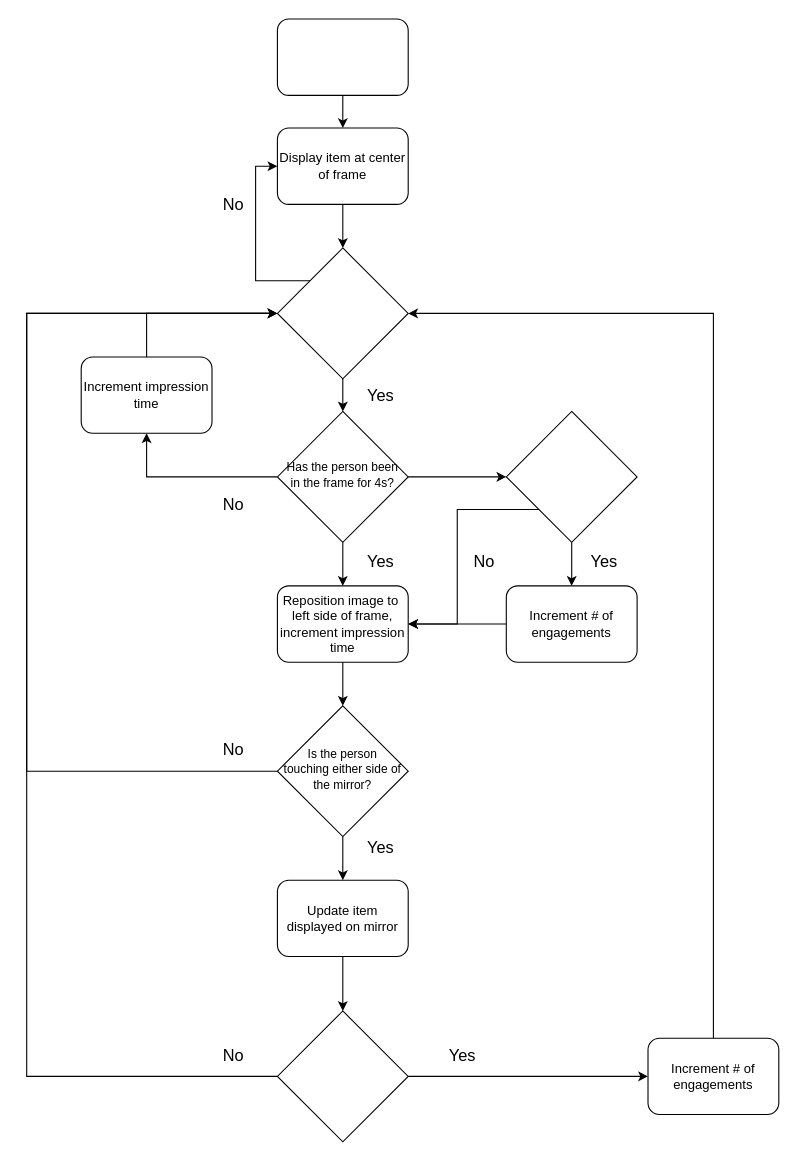
Image size: 798x1161. Some labels were removed from this diagram. The centre of each missing label's shape, as x and y in pixels:
Has this impression already made an engagement?: pixel 342 1076
Is there a person in camera frame?: pixel 342 313
Is this a new impression?: pixel 571 476
Start camera feed, load inventory data: pixel 342 56
